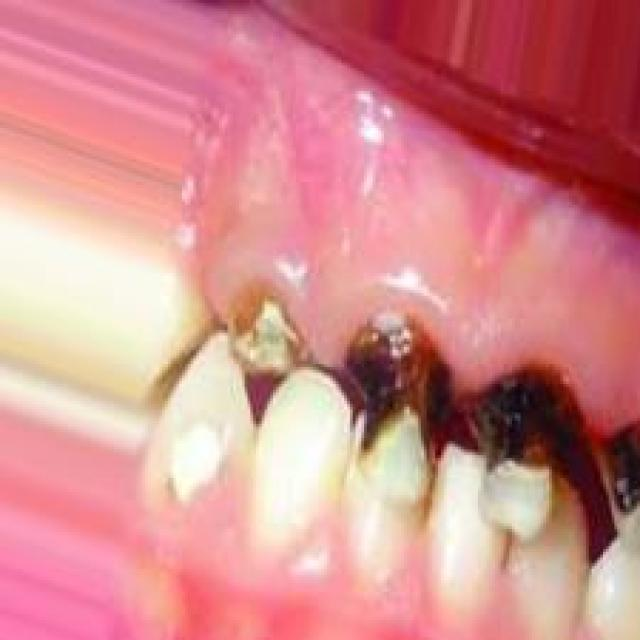caries: (457, 344, 576, 538), (333, 305, 450, 496), (210, 265, 315, 401), (586, 404, 640, 535)
